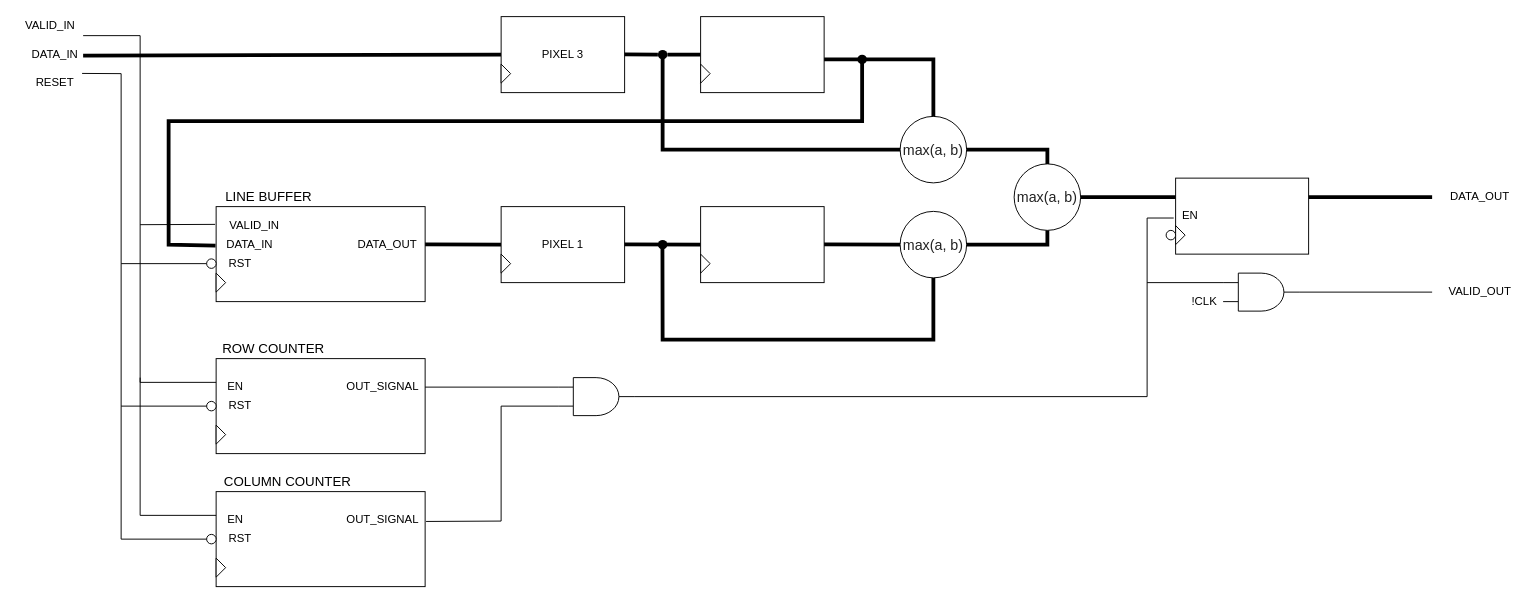
Some shapes in this 1533 by 603 pixel diagram are drawn without their labels. Here are the shapes that lost their labels. From the top down, the box of each, then its label:
(700, 16, 824, 93): PIXEL 2
(1175, 177, 1309, 254): REG_OUT
(700, 206, 824, 283): PIXEL 0
